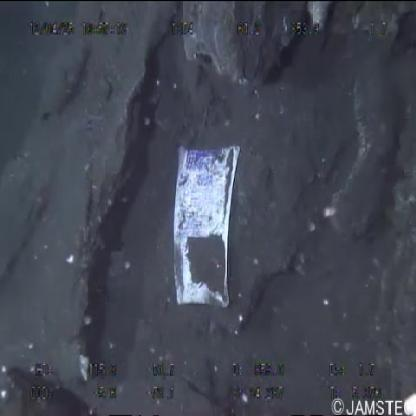Rác: (169, 140, 248, 319)
